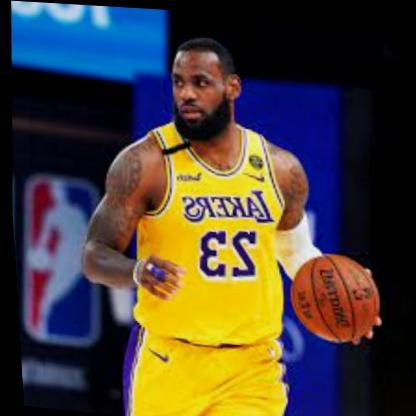basketball: (285, 248, 377, 342)
